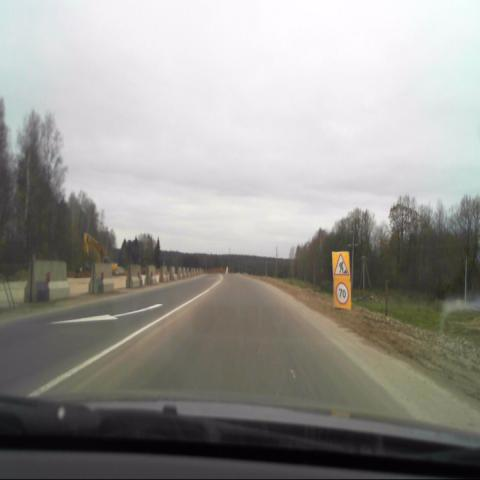1_25: (332, 252, 349, 276)
3_24: (333, 280, 350, 305)
